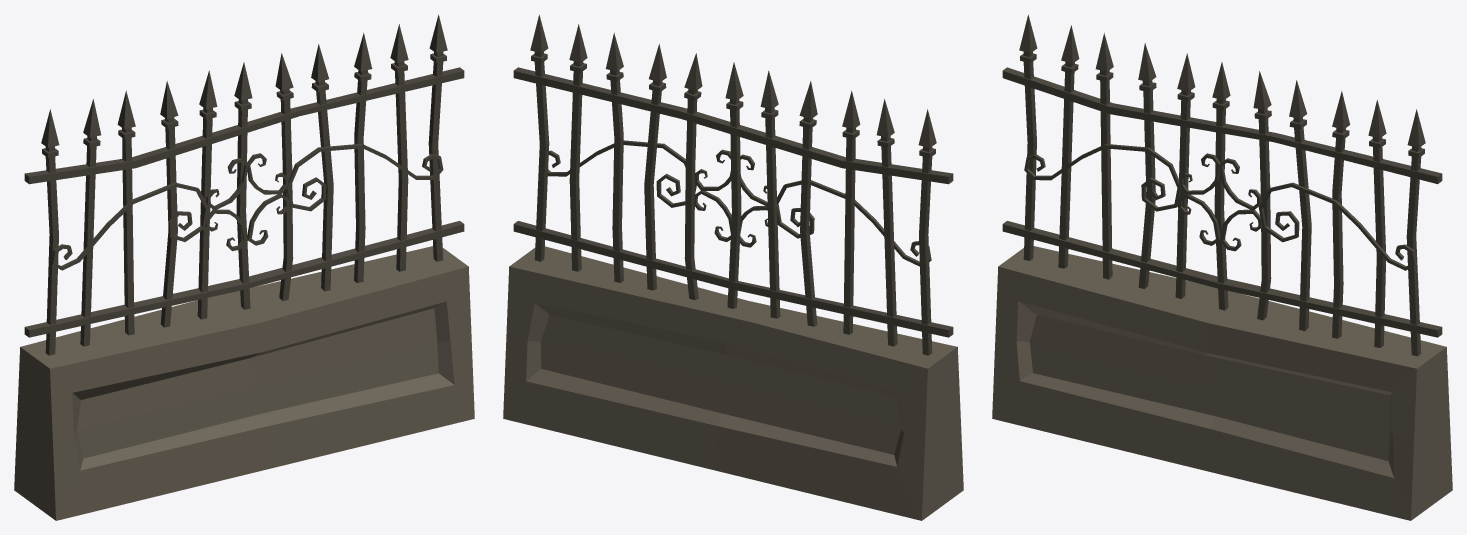
The model's file is CemeteryFence.fbx.
The picture shows the model from 3 angles, left to right: view 1: azimuth 30°, elevation 25°; view 2: azimuth 150°, elevation 25°; view 3: azimuth 330°, elevation 25°; orthographic projection.
Parts seen in each view (by area): view 1: CemeteryFence; view 2: CemeteryFence; view 3: CemeteryFence.
Part boxes in pixels (bbox=[...]): CemeteryFence: bbox=[14, 14, 474, 520]; CemeteryFence: bbox=[503, 14, 963, 520]; CemeteryFence: bbox=[992, 14, 1452, 520].
Bounding box in the file's own units: 239 × 207 × 39.92.
